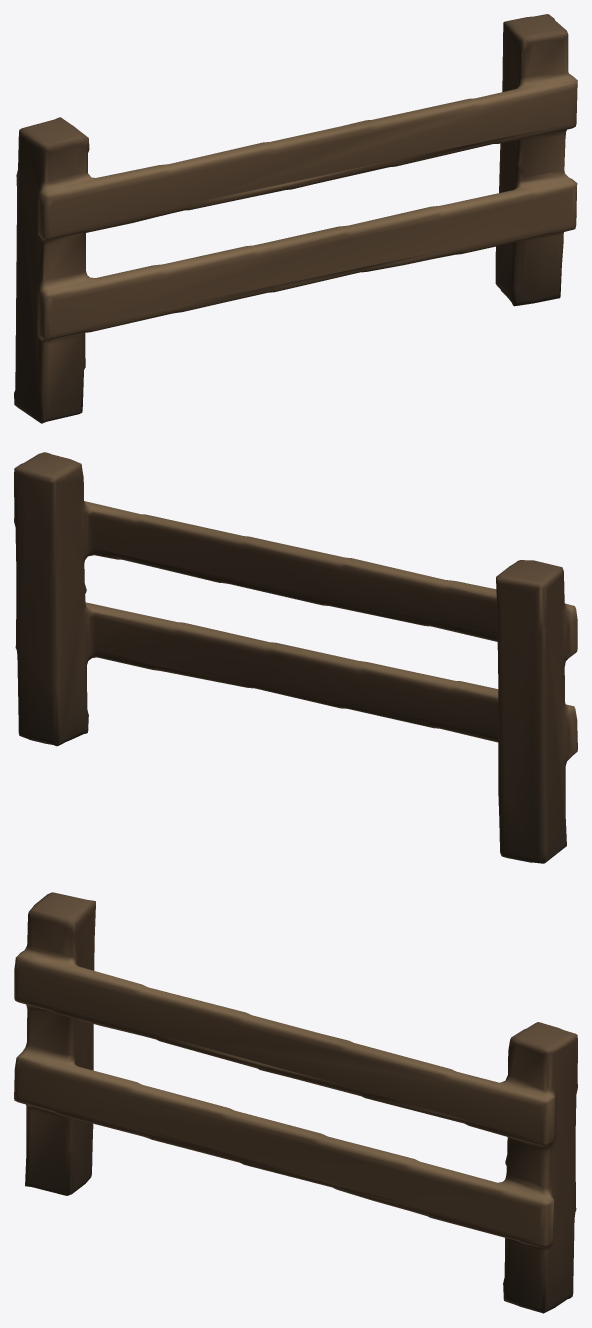
File: SM_StylizedFence.fbx
3 views of the same model, one above another, from view 1: azimuth 30°, elevation 25°; view 2: azimuth 150°, elevation 25°; view 3: azimuth 330°, elevation 25° (orthographic).
Visible parts, largest first — view 1: SM_StylizedFence; view 2: SM_StylizedFence; view 3: SM_StylizedFence.
Boxes of the visible parts, x1,y1,x2,y2 form: SM_StylizedFence: [14, 14, 577, 423]; SM_StylizedFence: [14, 452, 577, 863]; SM_StylizedFence: [14, 892, 577, 1313].
Size of what is drawn, in the model's own units: 2.23 by 1.11 by 0.2607.
